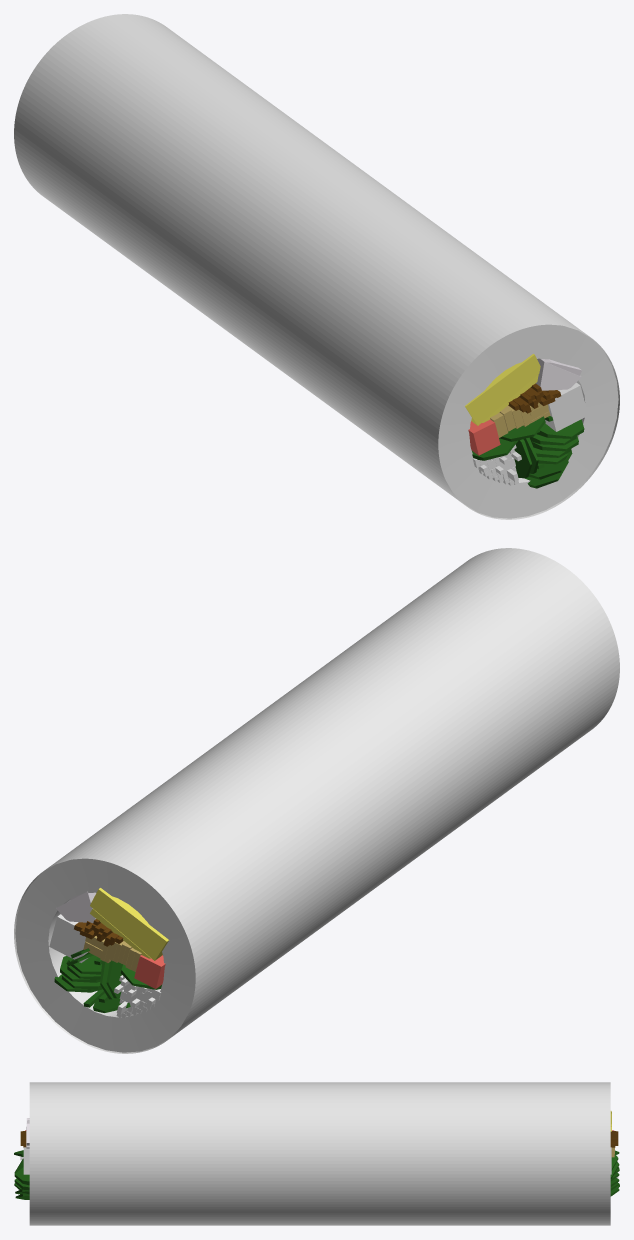
Rendered from kimbap_final.fbx.
3 renders of one model, top to bottom at view 1: azimuth 30°, elevation 25°; view 2: azimuth 150°, elevation 25°; view 3: azimuth 270°, elevation 25°, orthographic. The views are drawn at different scales.
Visible parts, largest first — view 1: kim, bap, egg, danmuji, matsal, ham; view 2: kim, bap, egg, danmuji, matsal, ham; view 3: kim, danmuji.
Boxes of the visible parts, x1,y1,x2,y2 form: kim: (14, 14, 619, 519); bap: (438, 324, 618, 518); egg: (465, 354, 540, 425); danmuji: (545, 382, 588, 431); matsal: (536, 358, 581, 390); ham: (468, 419, 500, 455); kim: (14, 548, 619, 1053); bap: (15, 858, 195, 1052); egg: (90, 888, 168, 960); danmuji: (49, 914, 87, 962); matsal: (56, 891, 96, 923); ham: (134, 955, 165, 988); kim: (29, 1082, 610, 1225); danmuji: (23, 1147, 611, 1174).
Size of the model in its own units: 0.9936 by 0.9936 by 4.19.
